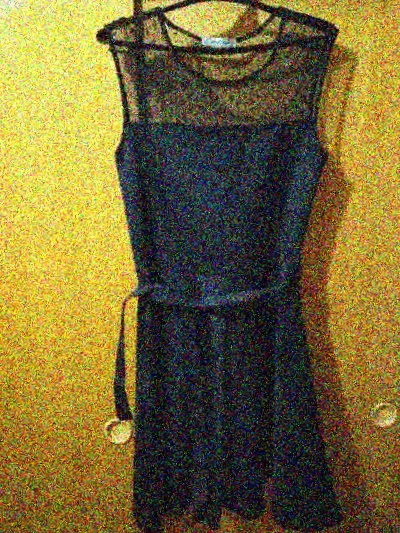Dress: (75, 0, 385, 533)
